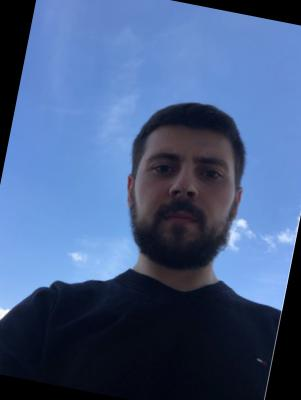without_mask: (120, 139, 242, 278)
